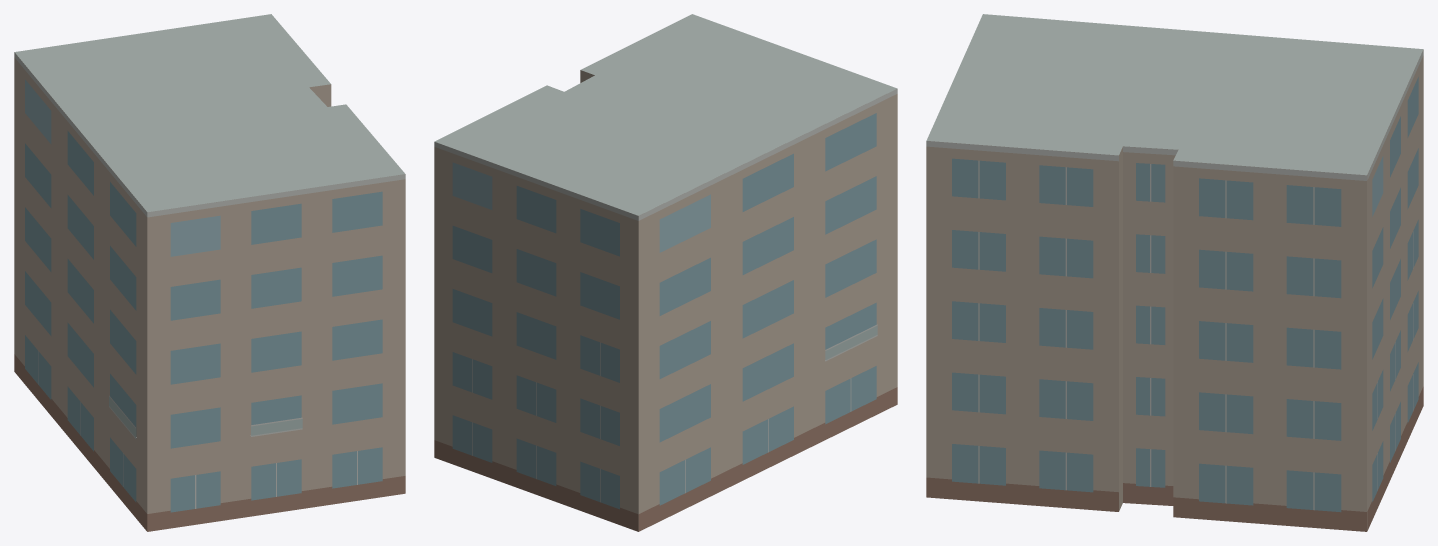
The model's file is survey-upis-32707727.glb.
3 renders of one model, left to right at view 1: azimuth 30°, elevation 25°; view 2: azimuth 150°, elevation 25°; view 3: azimuth 270°, elevation 25°, orthographic. The views are drawn at different scales.
Visible parts, largest first — view 1: survey-upis-32707727.tmp; view 2: survey-upis-32707727.tmp; view 3: survey-upis-32707727.tmp.
Boxes of the visible parts, x1,y1,x2,y2 form: survey-upis-32707727.tmp: [14, 14, 405, 531]; survey-upis-32707727.tmp: [434, 14, 897, 531]; survey-upis-32707727.tmp: [926, 14, 1423, 531].
Bounding box in the file's own units: 14.66 × 15.1 × 19.09.
